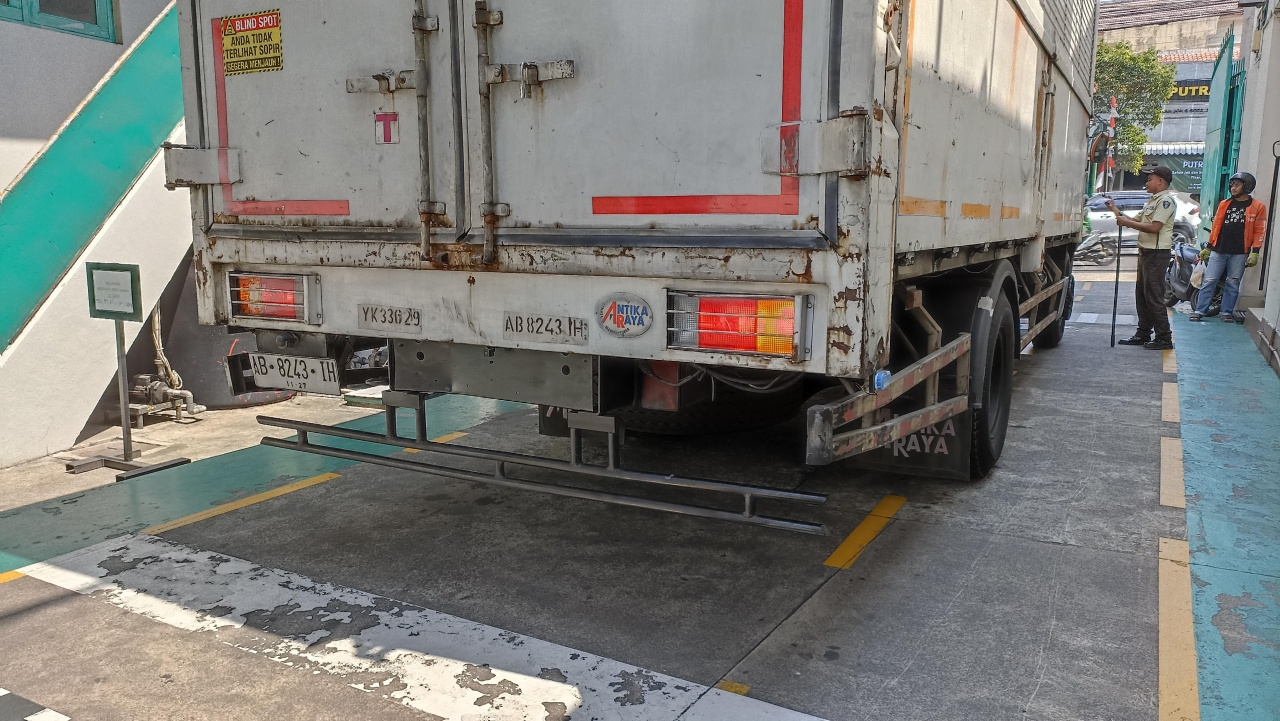plate: (248, 353, 342, 396)
